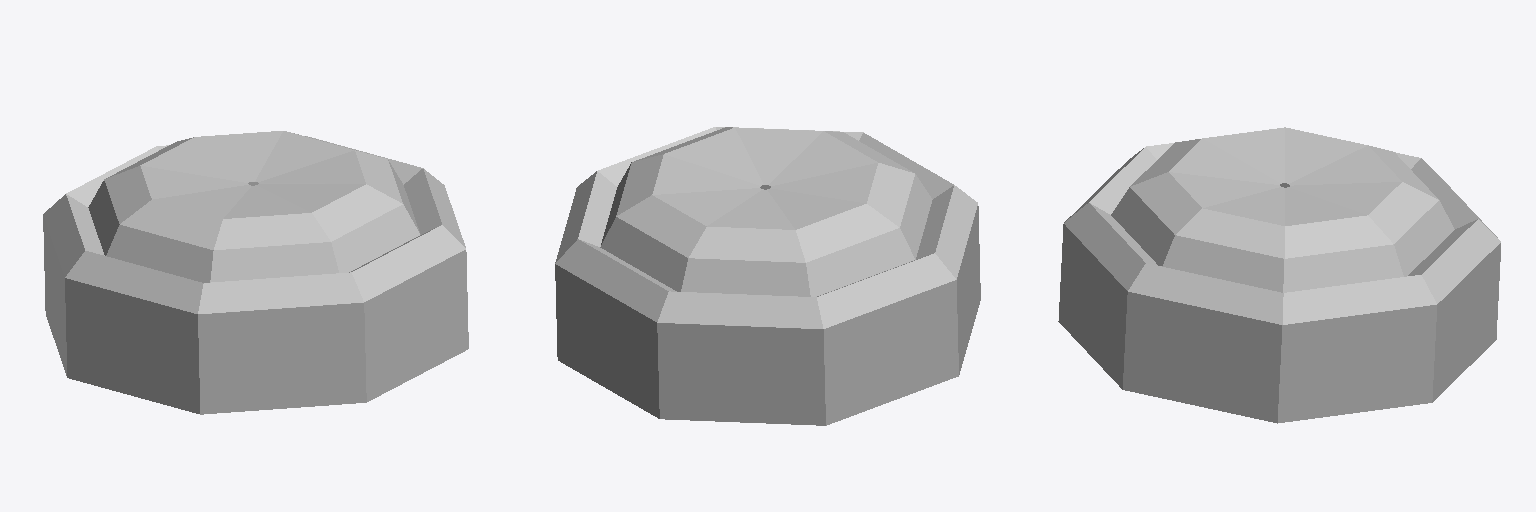
Rendered from Boton (0).obj.
3 views of the same model, side by side, from view 1: azimuth 30°, elevation 25°; view 2: azimuth 150°, elevation 25°; view 3: azimuth 270°, elevation 25° (orthographic).
Parts seen in each view (by area): view 1: Boton (0); view 2: Boton (0); view 3: Boton (0).
Part boxes in pixels (left/top/right/bottom): Boton (0): left=43, top=131, right=468, bottom=414; Boton (0): left=555, top=127, right=980, bottom=425; Boton (0): left=1058, top=127, right=1500, bottom=423.
Size of the model in its own units: 0.3 by 0.1269 by 0.3031.